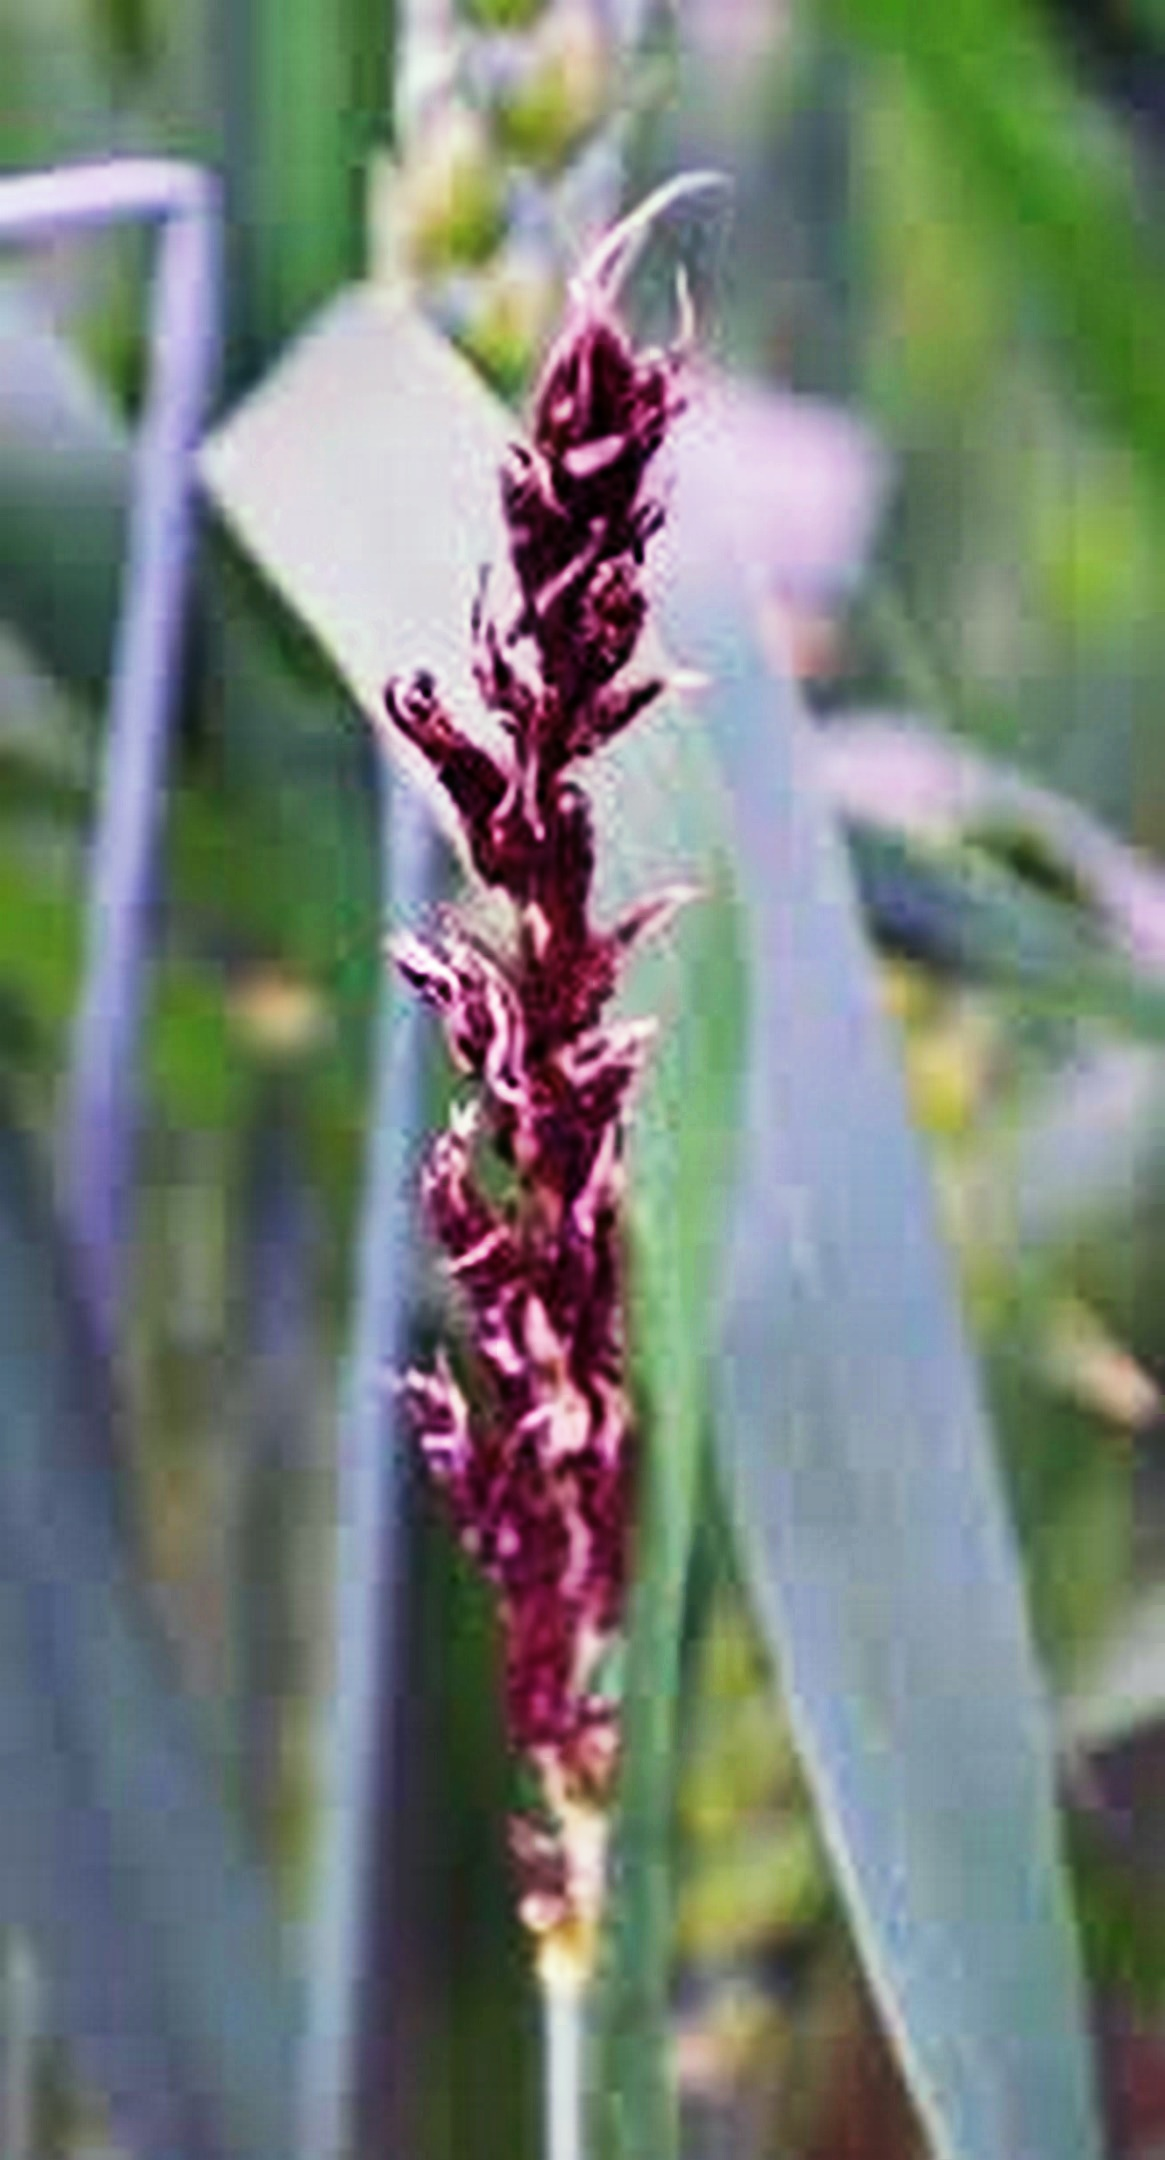Wheat Loose Smut: (330, 208, 747, 1875)
